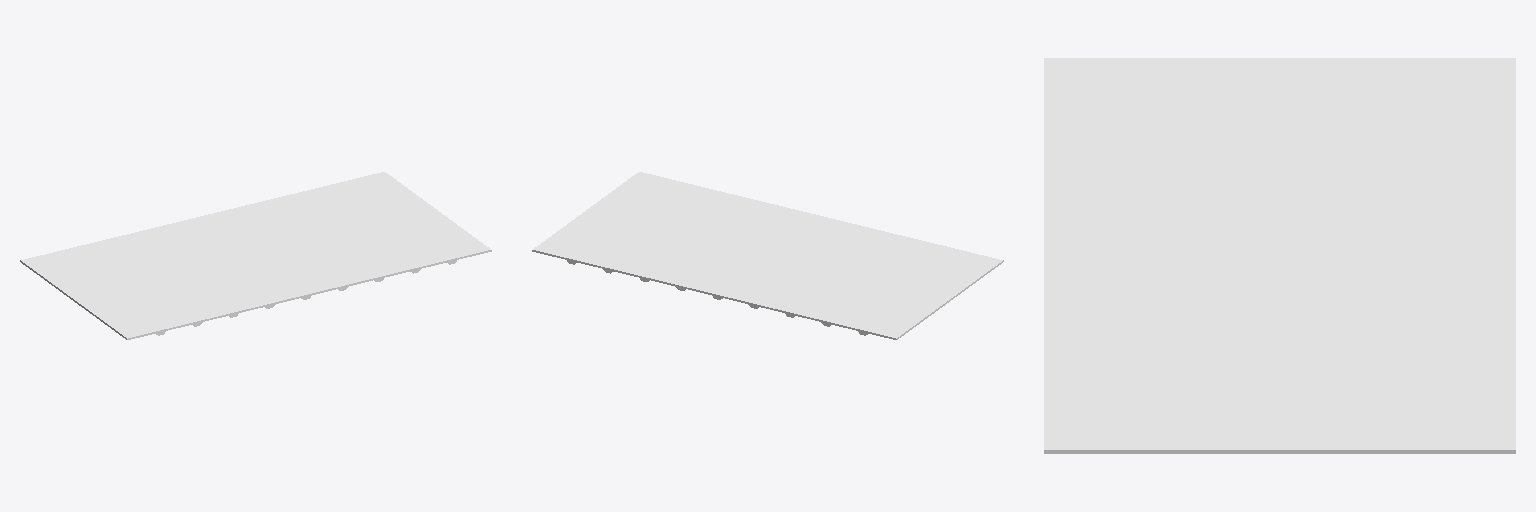
robot.urdf — Truck_Trailer_Roof:
<?xml version="1.0" ?>
<robot name="Truck_Trailer_Roof">
  <link name="Truck_Trailer_Roof">
    <inertial>
      <mass value="422.1303764881761"/>
      <inertia ixx="8.38284973698533e+17" ixy="-67423.43266282436" ixz="-36955.11761111073" iyy="1.065140567118284e+18" iyz="-85892124869470.36" izz="2.270470789400728e+17"/>
      <origin xyz="0.0 0.0 0.0" rpy="0.0 0.0 0.0"/>
    </inertial>
    <visual>
      <origin xyz="-6.0 -1.2954 0.0" rpy="1.57079632679 0.0 1.57079632679"/>
      <geometry>
        <mesh filename="Truck_Trailer_Roof.obj"/>
      </geometry>
      <material name="Truck_Trailer_Roof_material">
        <color rgba="1 1 1 0.1"/>
      </material>
    </visual>
    <collision name="collision">
      <origin xyz="1.5 0.0 2.7813" rpy="0.0 0.0 0.0"/>
      <geometry>
        <box size="5 2.540 0.0254"/>
      </geometry>
    </collision>
  </link>
</robot>

--- What the picture shows (computed from the rendered views, not written in the file) ---
The picture shows the robot from 3 angles, left to right: view 1: azimuth 30°, elevation 25°; view 2: azimuth 150°, elevation 25°; view 3: azimuth 270°, elevation 25°; orthographic projection.
Model Truck_Trailer_Roof with 1 links and 0 joints (none), rooted at Truck_Trailer_Roof, posed every joint at zero.
Visible links, largest first — view 1: Truck_Trailer_Roof; view 2: Truck_Trailer_Roof; view 3: Truck_Trailer_Roof.
Link boxes in pixels (x1,y1,x2,y2): Truck_Trailer_Roof: (20, 172, 491, 339); Truck_Trailer_Roof: (532, 172, 1003, 339); Truck_Trailer_Roof: (1044, 58, 1515, 453).
Bounding box of the posed robot: 5000 × 2540 × 63.5 m (x, y, z).
Meshes: 1 distinct files referenced, 1 mesh visuals loaded (1 OBJ).
